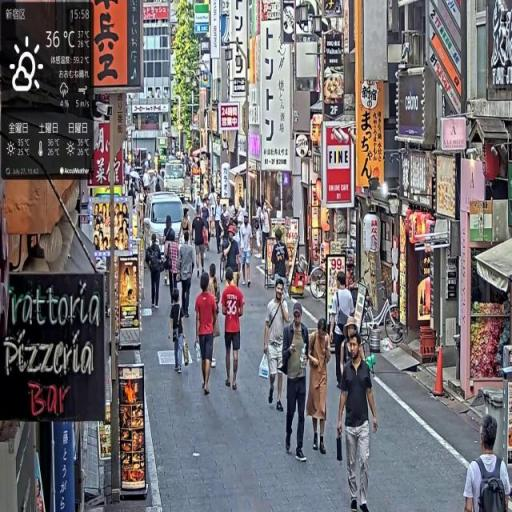person: (337, 329, 380, 512), (281, 302, 314, 465), (464, 414, 512, 512), (263, 280, 293, 412), (306, 318, 331, 458), (330, 270, 355, 392), (222, 264, 245, 395), (196, 271, 220, 396), (178, 231, 196, 321), (169, 290, 188, 374), (148, 235, 165, 311), (192, 208, 209, 277), (240, 214, 255, 287)
